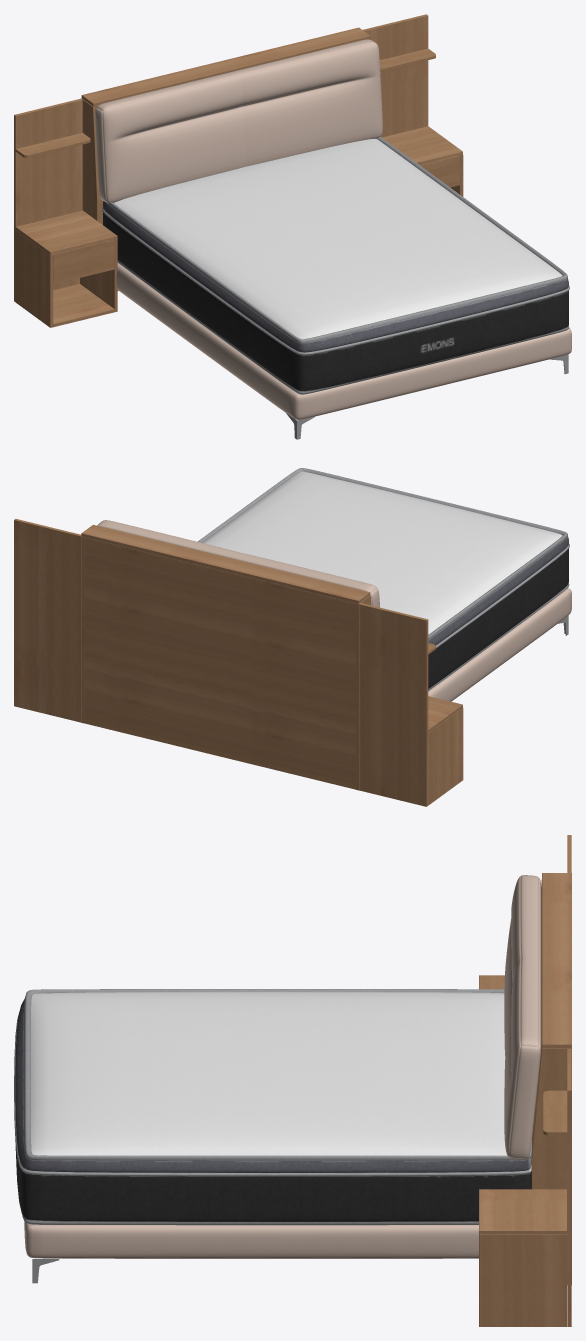
3 views of the same model, one above another, from view 1: azimuth 30°, elevation 25°; view 2: azimuth 150°, elevation 25°; view 3: azimuth 270°, elevation 25° (orthographic). The views are drawn at different scales.
Visible parts, largest first — view 1: bed_15_03; view 2: bed_15_03; view 3: bed_15_03.
Boxes of the visible parts, box(x1,y1,x2,y2) form: bed_15_03: box(14, 14, 571, 439); bed_15_03: box(14, 468, 571, 806); bed_15_03: box(14, 835, 571, 1326).
Bounding box in the file's own units: 2.39 × 1.06 × 2.21.
Materials: 1 (1 with a texture image).
